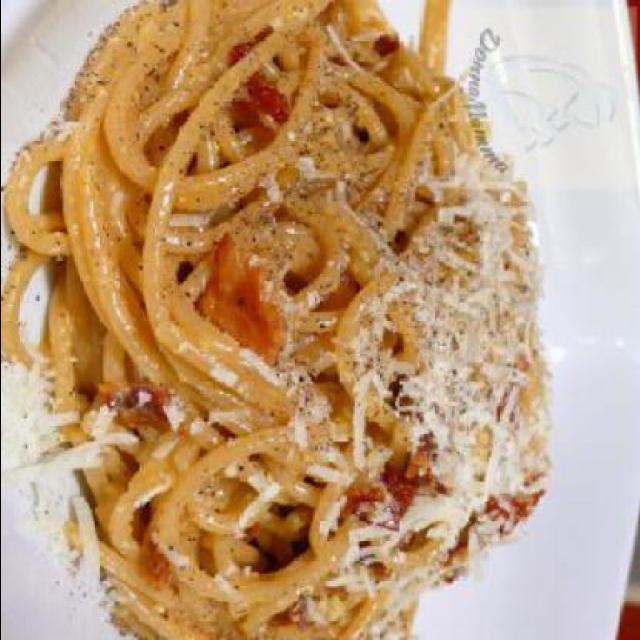Pasta with carbonara sauce: (4, 10, 568, 638)
